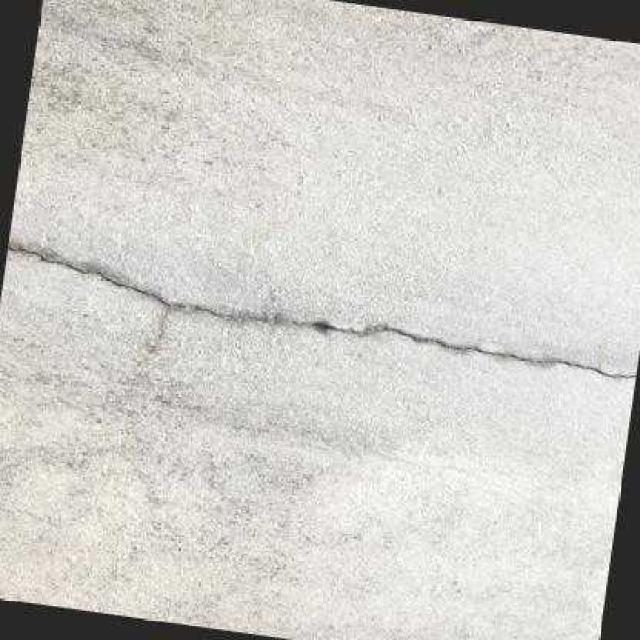D00: (7, 245, 636, 375)
